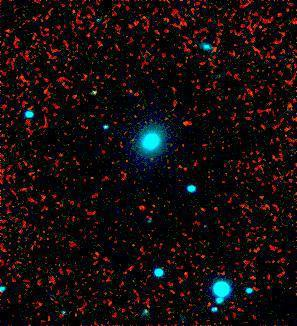star: (175, 108, 205, 138)
